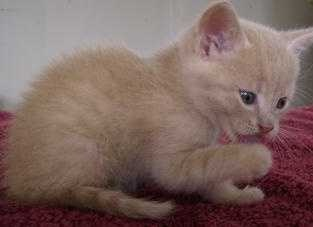Cat: (8, 0, 312, 218)
